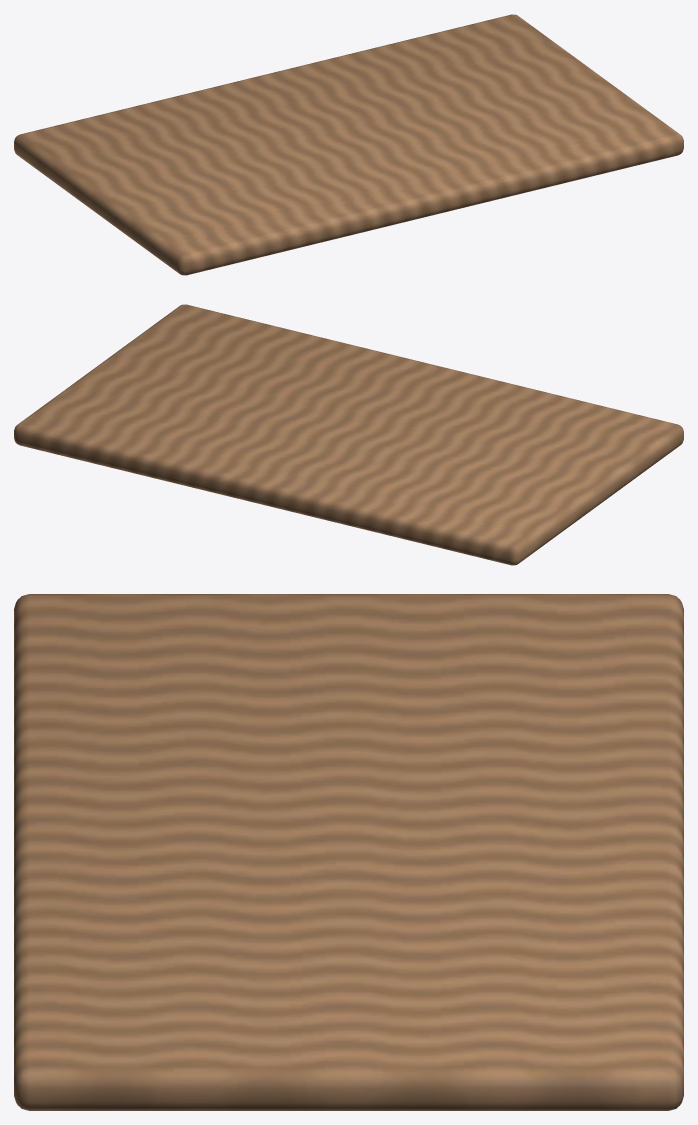
The model's file is drawbridge_leaf.glb.
The picture shows the model from 3 angles, top to bottom: view 1: azimuth 30°, elevation 25°; view 2: azimuth 150°, elevation 25°; view 3: azimuth 270°, elevation 25°; orthographic projection. The views are drawn at different scales.
Visible parts, largest first — view 1: drawbridge_leaf; view 2: drawbridge_leaf; view 3: drawbridge_leaf.
Boxes of the visible parts, <box> form: drawbridge_leaf: <box>14,14,683,275</box>; drawbridge_leaf: <box>14,304,683,565</box>; drawbridge_leaf: <box>14,594,683,1110</box>.
Size of the model in its own units: 6 by 0.2402 by 3.5.
1 material, 1 textured.
